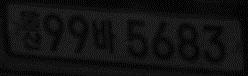3: (202, 23, 225, 65)
5: (125, 18, 148, 59)
6: (150, 19, 173, 60)
8: (176, 21, 200, 62)
9: (41, 11, 65, 52), (66, 13, 89, 53)
바: (92, 17, 116, 54)
울산_V: (19, 10, 41, 52)
